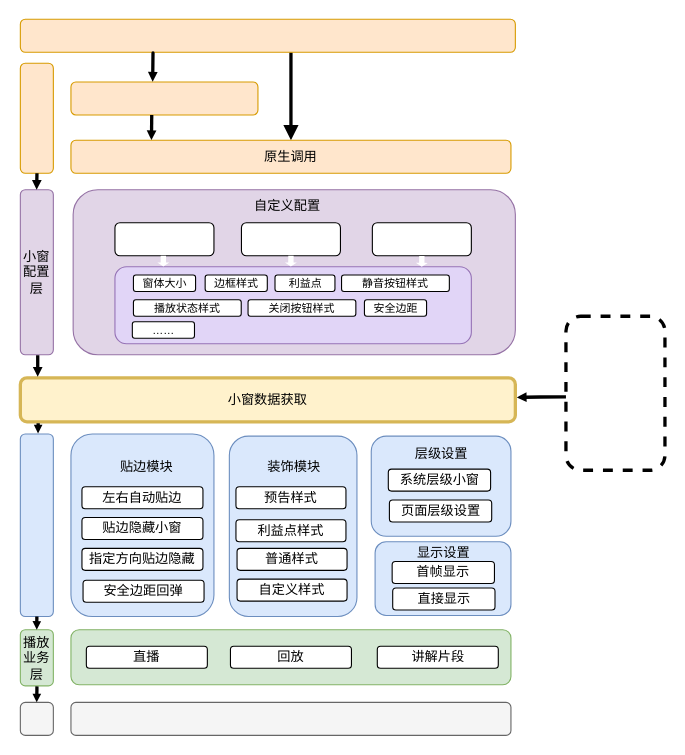
Some shapes in this 685 by 755 pixel diagram are drawn without their labels. The shapes that lost their labels are listed below. From the top down, each one's centre as x and y in pixels, then its label:
At (x=267, y=35): "业务调用方".
At (x=36, y=117): "调用层".
At (x=164, y=98): "H5调用".
At (x=164, y=239): "小样式小窗".
At (x=290, y=239): "普通中样式小窗".
At (x=421, y=239): "大样式小窗".
At (x=615, y=392): "服务端".
At (x=36, y=525): "小窗业务层".
At (x=36, y=718): "底层".
At (x=290, y=718): "播放器".
